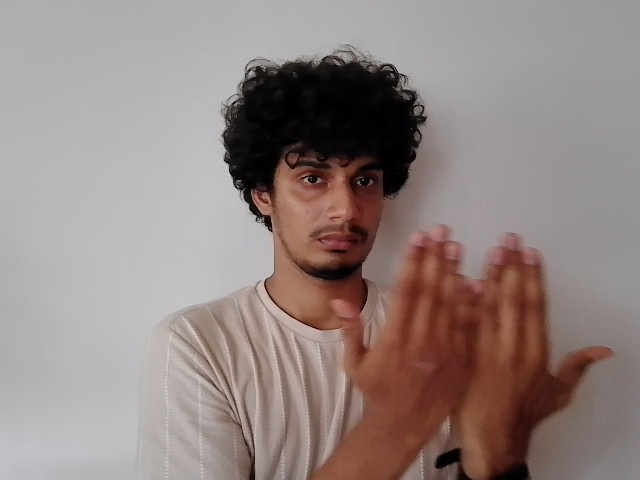school: (329, 218, 622, 458)
